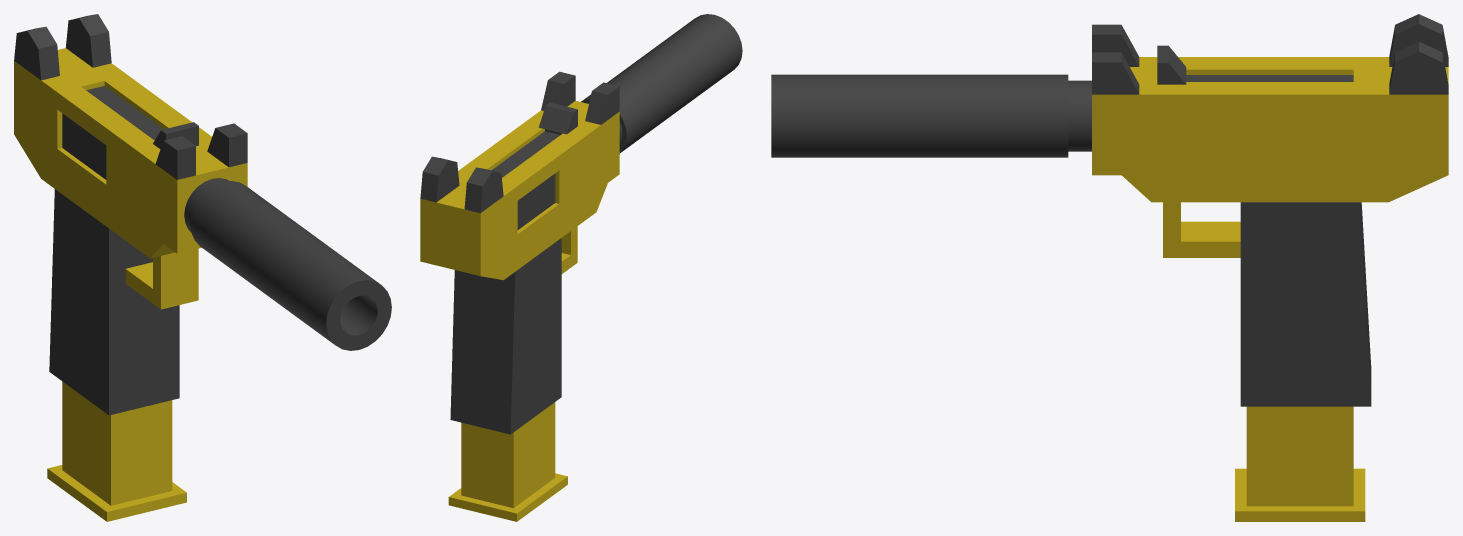
The model's file is uziGoldSilencer.fbx.
3 views of the same model, side by side, from view 1: azimuth 30°, elevation 25°; view 2: azimuth 150°, elevation 25°; view 3: azimuth 270°, elevation 25° (orthographic). The views are drawn at different scales.
Visible parts, largest first — view 1: Mesh2_Group3 Group1 Model, Mesh3_Group4 Group1 Model, Mesh1_Group2 Group1 Model, Mesh4_Group5 Group1 Model; view 2: Mesh2_Group3 Group1 Model, Mesh3_Group4 Group1 Model, Mesh1_Group2 Group1 Model, Mesh4_Group5 Group1 Model; view 3: Mesh2_Group3 Group1 Model, Mesh3_Group4 Group1 Model, Mesh1_Group2 Group1 Model, Mesh4_Group5 Group1 Model.
Part boxes in pixels (x1,y1,x2,y2): Mesh2_Group3 Group1 Model: (14,14,247,415); Mesh3_Group4 Group1 Model: (190,181,391,350); Mesh1_Group2 Group1 Model: (47,381,186,521); Mesh4_Group5 Group1 Model: (153,122,198,149); Mesh2_Group3 Group1 Model: (420,71,622,434); Mesh3_Group4 Group1 Model: (581,14,742,153); Mesh1_Group2 Group1 Model: (448,402,567,521); Mesh4_Group5 Group1 Model: (539,102,577,134); Mesh2_Group3 Group1 Model: (1068,14,1448,406); Mesh3_Group4 Group1 Model: (771,74,1068,157); Mesh1_Group2 Group1 Model: (1235,406,1365,521); Mesh4_Group5 Group1 Model: (1157,45,1186,84).
Size of the model in its own units: 0.0102 by 0.0522 by 0.0685.
